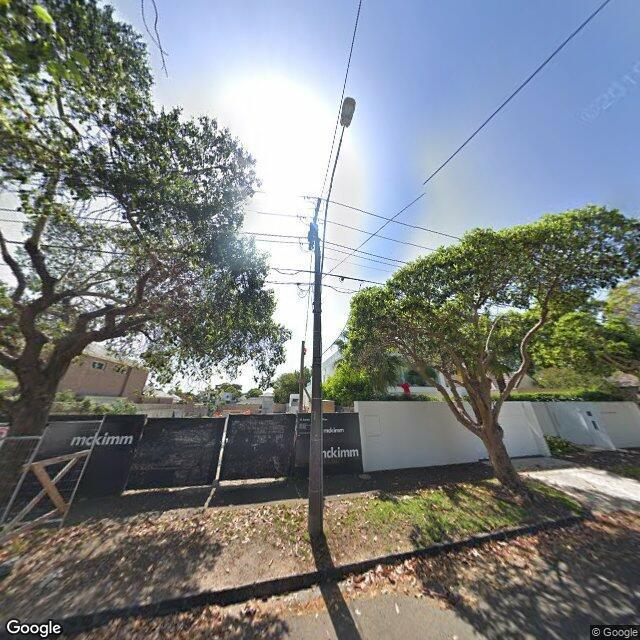crossarm: (308, 198, 322, 250)
steel-pole: (298, 340, 305, 413)
streetlight: (319, 97, 356, 284)
timber-pole: (309, 224, 324, 544)
